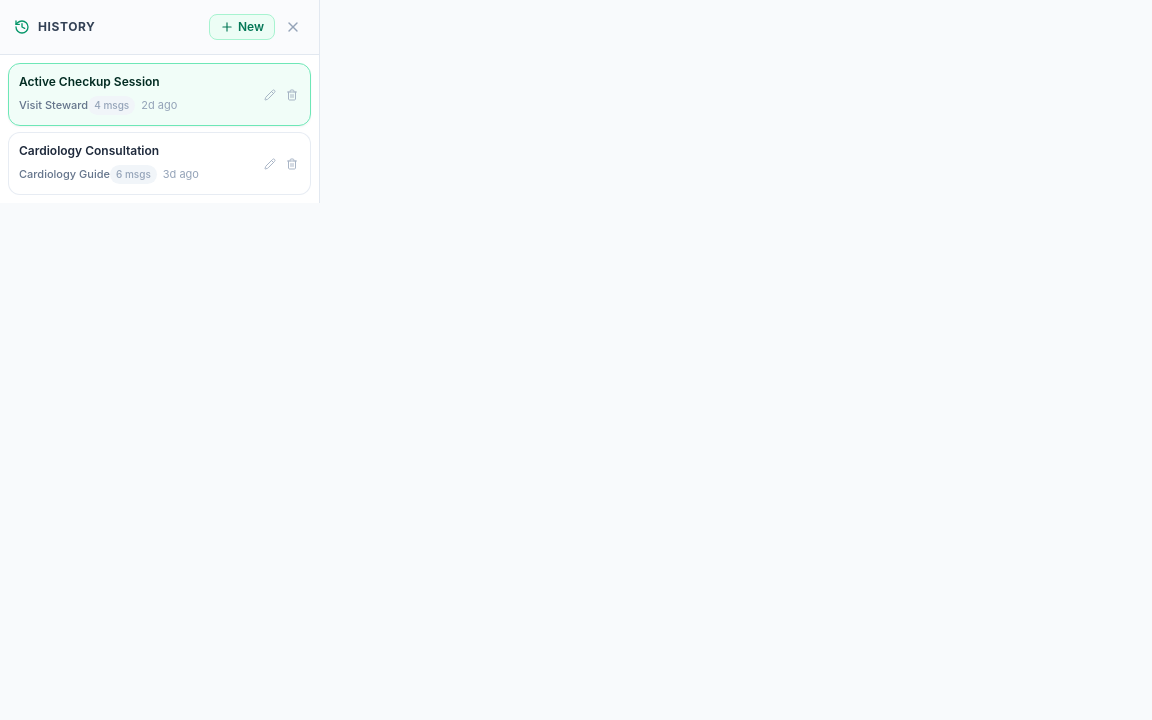
Test: SessionHistorySidebar Component › Accessibility Focus Trapping in Delete Dialog › returns focus to invoking delete button when dismissed via Cancel button
What coordinates should you click on to do the following:
click the button with test id "delete-session-thread-past-2"
I would click on:
 (292, 164)
Its box is [282,154,302,174].
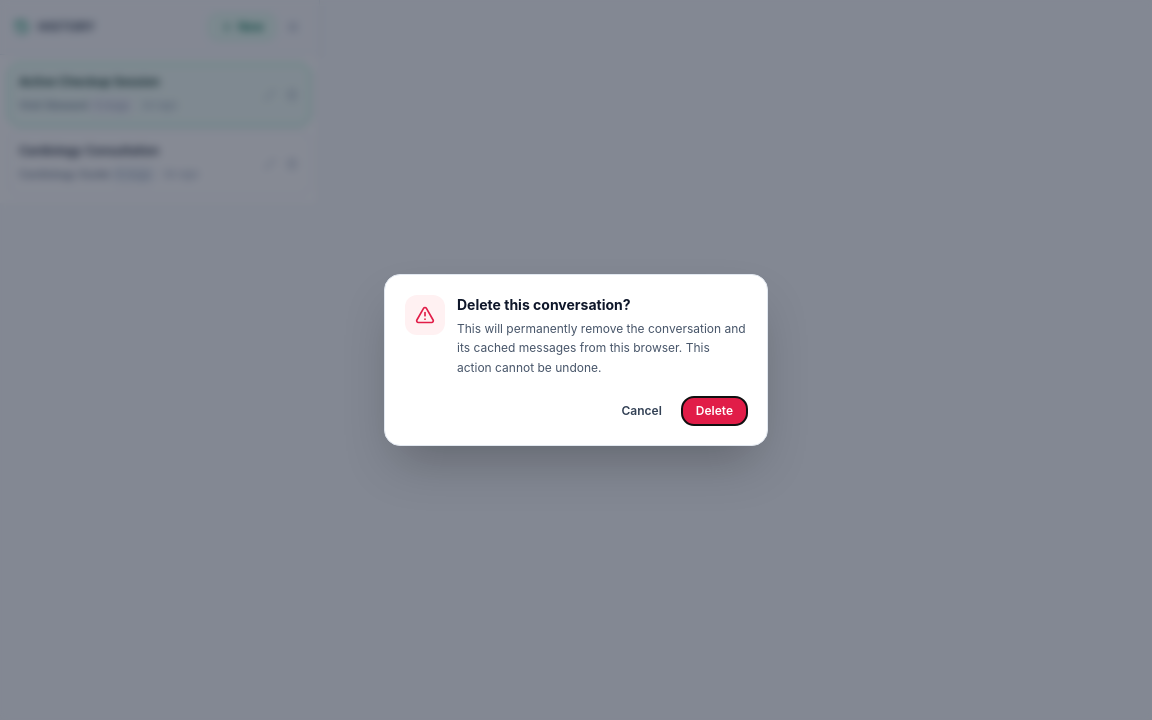
What coordinates should you click on to do the following:
click the button with test id "cancel-delete-session-btn"
I would click on:
 (642, 411)
Its box is [610,397,674,425].
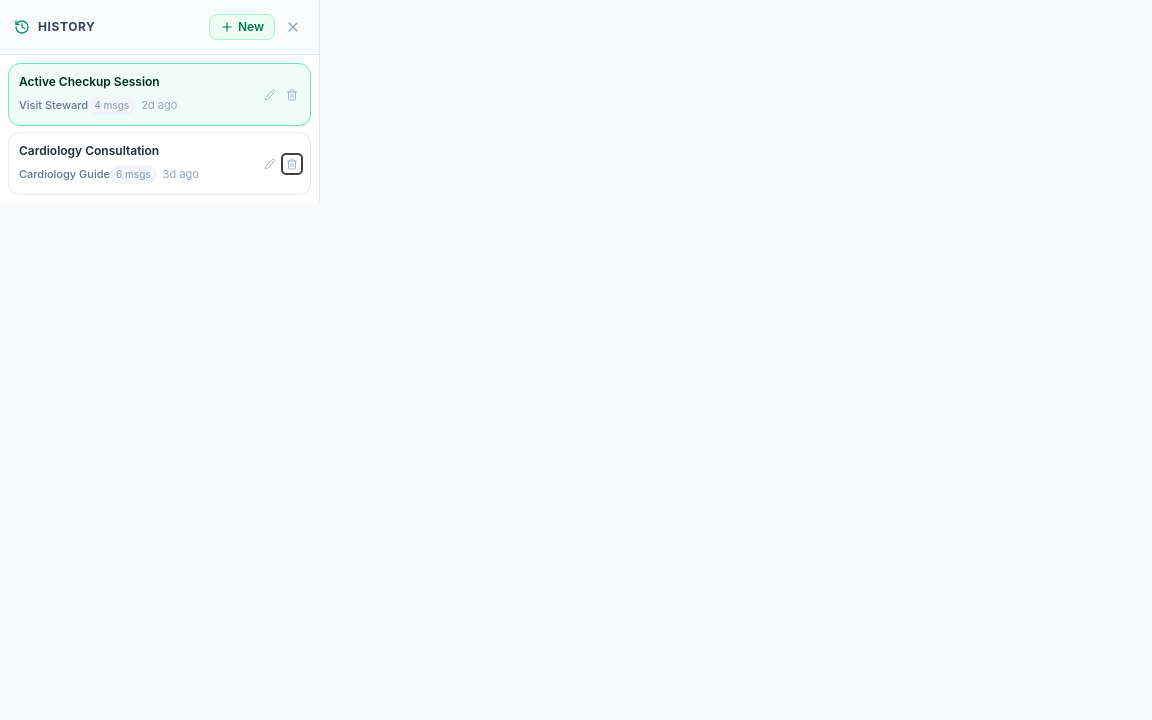
Check: the dialog is gone
